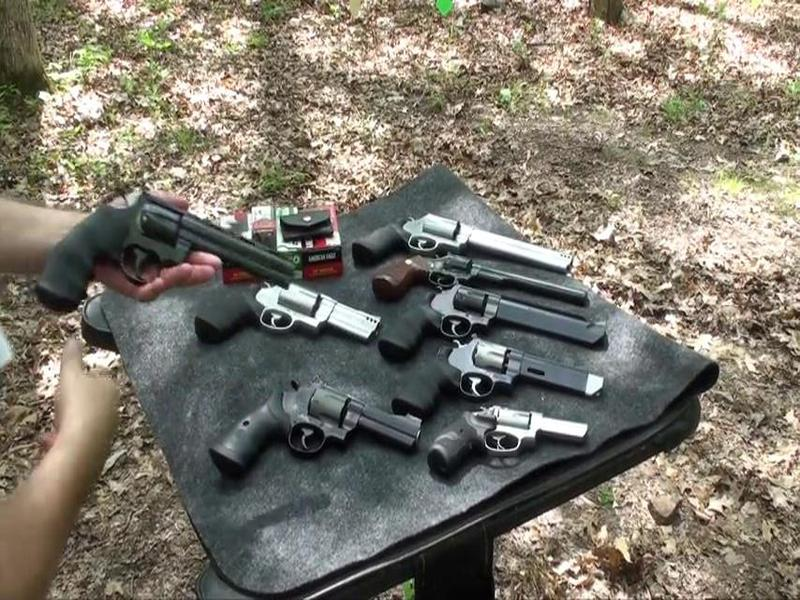Revolver: (46, 184, 304, 314)
